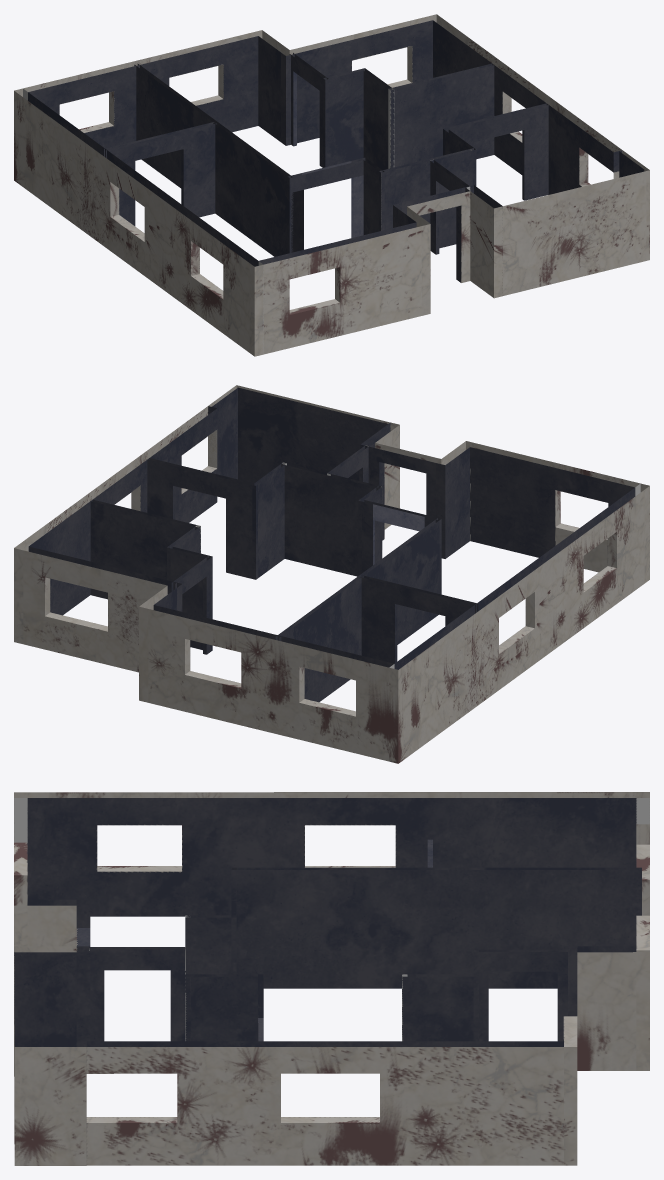
3 views of the same model, one above another, from view 1: azimuth 30°, elevation 25°; view 2: azimuth 150°, elevation 25°; view 3: azimuth 270°, elevation 25° (orthographic). The views are drawn at different scales.
Parts seen in each view (by area): view 1: Wall002; view 2: Wall002; view 3: Wall002.
Part boxes in pixels (left/top/right/bottom): Wall002: left=14, top=14, right=649, bottom=356; Wall002: left=14, top=385, right=649, bottom=763; Wall002: left=14, top=792, right=649, bottom=1165.
Bounding box in the file's own units: 1330 × 289 × 1403.
